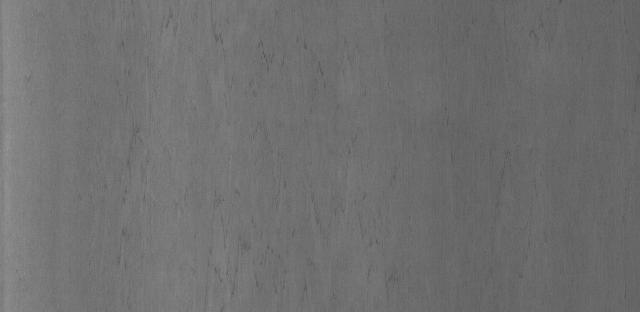silk_spot: (141, 0, 364, 288)
